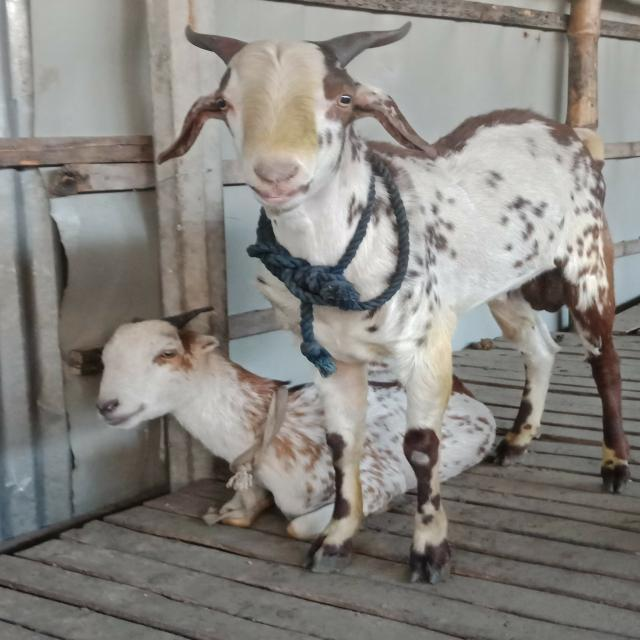Goat: (155, 20, 631, 581), (90, 305, 499, 540)
